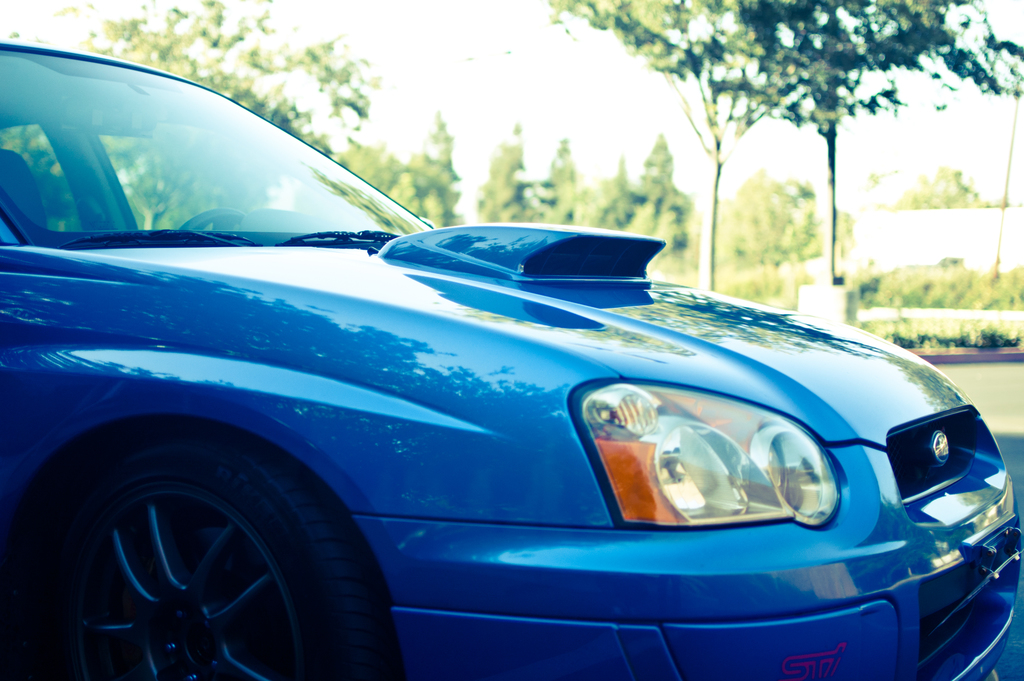Car: (0, 43, 1023, 680)
